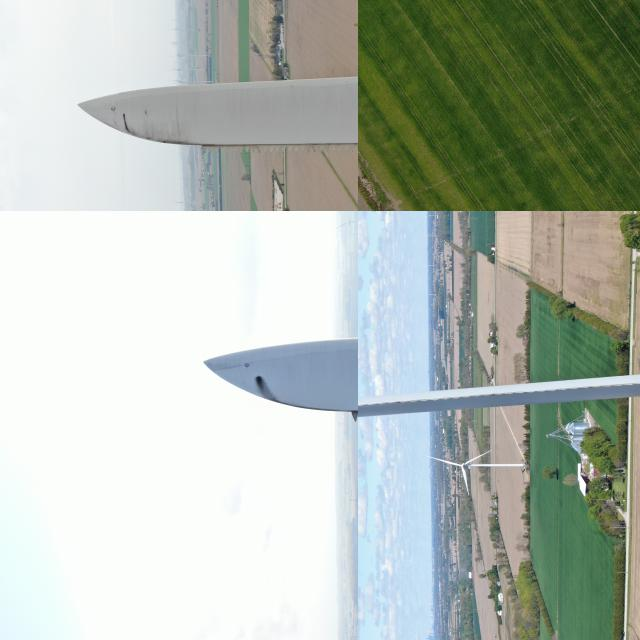damage: (250, 376, 276, 404), (119, 113, 133, 135)
